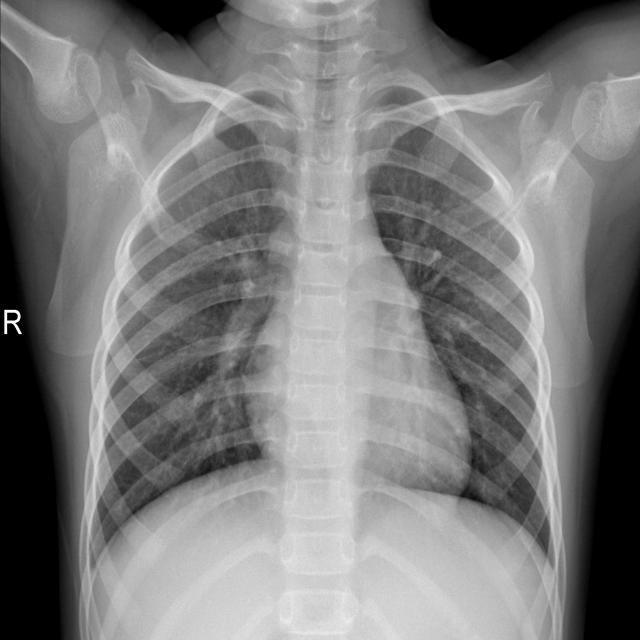no-pneumonia: (86, 107, 298, 568), (367, 112, 562, 570)
